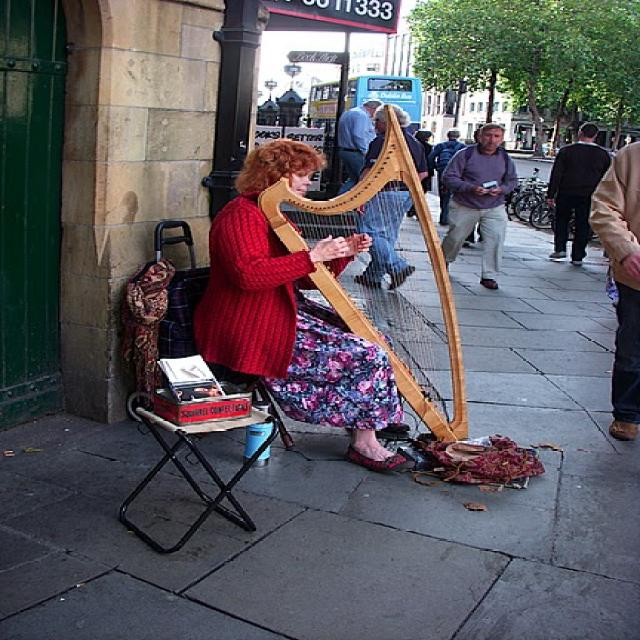harp: (255, 105, 470, 448)
